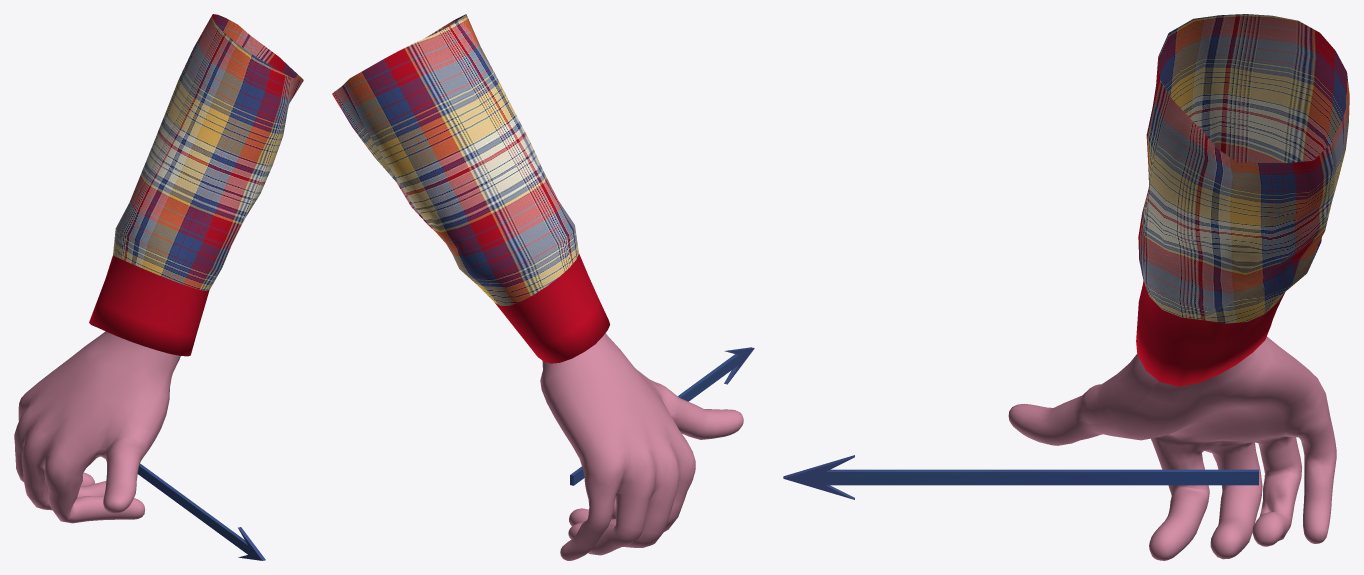
File: forceHand.glb
3 renders of one model, left to right at view 1: azimuth 30°, elevation 25°; view 2: azimuth 150°, elevation 25°; view 3: azimuth 270°, elevation 25°, orthographic. The views are drawn at different scales.
Parts seen in each view (by area): view 1: SweaterR, HandR, arrowForce; view 2: SweaterR, HandR, arrowForce; view 3: SweaterR, HandR, arrowForce.
Boxes of the visible parts, left/top/right/bottom form: SweaterR: left=89, top=14, right=303, bottom=356; HandR: left=14, top=331, right=180, bottom=523; arrowForce: left=137, top=463, right=265, bottom=560; SweaterR: left=332, top=14, right=609, bottom=363; HandR: left=540, top=333, right=743, bottom=560; arrowForce: left=570, top=347, right=754, bottom=485; SweaterR: left=1136, top=14, right=1349, bottom=386; HandR: left=1008, top=336, right=1336, bottom=560; arrowForce: left=783, top=455, right=1258, bottom=499.
Bounding box in the file's own units: 1.99 × 2.93 × 2.38.
Materials: 2 (2 with a texture image).
